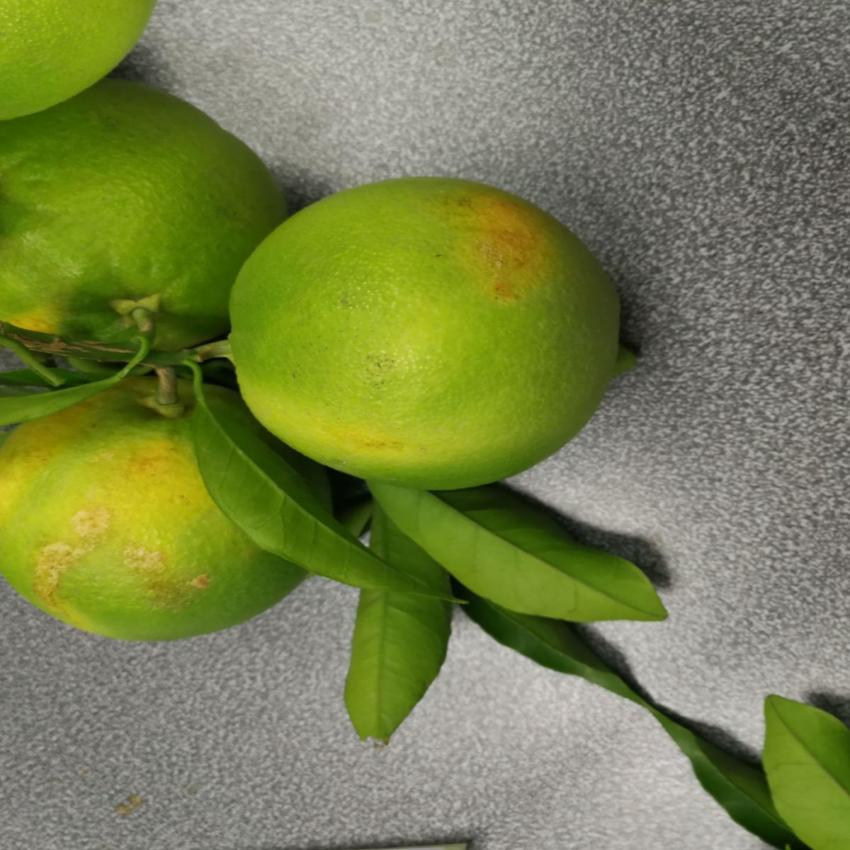Mal estado: (214, 178, 651, 489), (0, 366, 342, 661), (0, 81, 279, 347)
